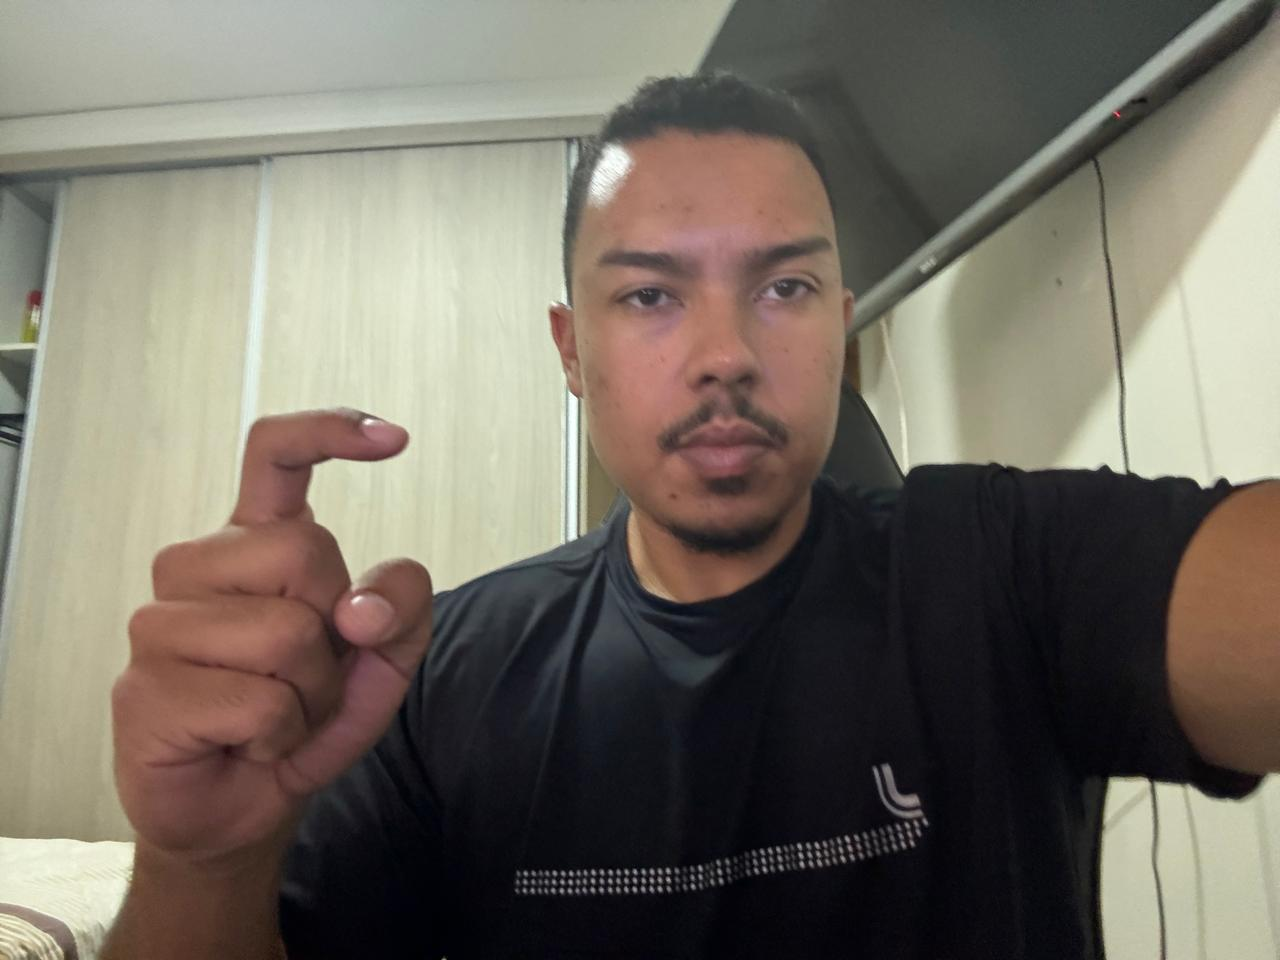x: (95, 391, 444, 862)
